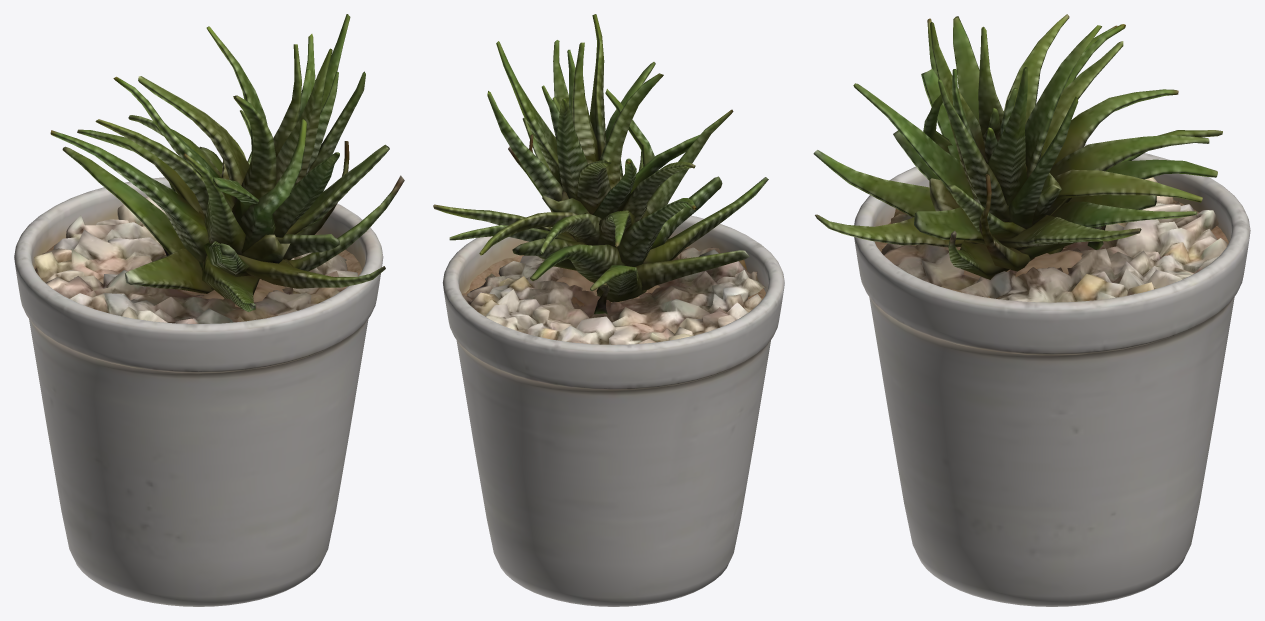
Rendered from potted_plant.glb.
3 renders of one model, left to right at view 1: azimuth 30°, elevation 25°; view 2: azimuth 150°, elevation 25°; view 3: azimuth 270°, elevation 25°, orthographic. The views are drawn at different scales.
Parts seen in each view (by area): view 1: potted_plant_04_ground; view 2: potted_plant_04_ground; view 3: potted_plant_04_ground.
Boxes of the visible parts, x1,y1,x2,y2 form: potted_plant_04_ground: (14,14,404,606); potted_plant_04_ground: (433,14,784,606); potted_plant_04_ground: (813,14,1250,606).
Size of the model in its own units: 0.1679 by 0.2675 by 0.1847.
1 material, 1 textured.
